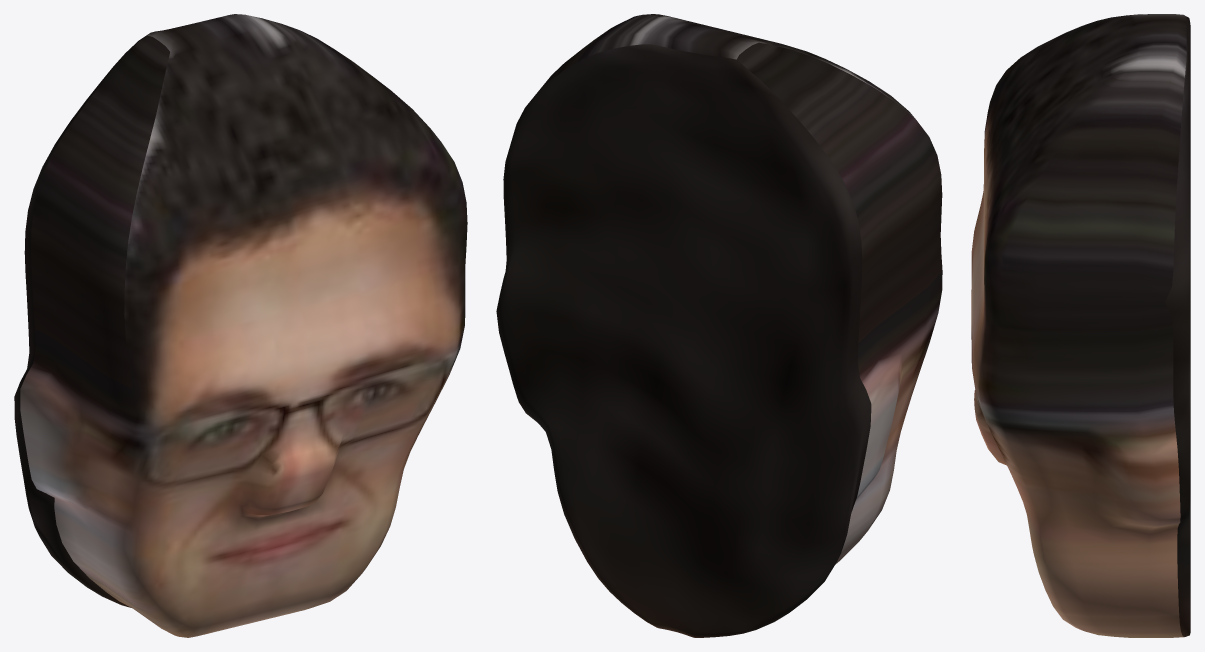
The model's file is aleix.fbx.
3 renders of one model, left to right at view 1: azimuth 30°, elevation 25°; view 2: azimuth 150°, elevation 25°; view 3: azimuth 270°, elevation 25°, orthographic.
Parts seen in each view (by area): view 1: Cube; view 2: Cube; view 3: Cube.
Part boxes in pixels (x1,y1,x2,y2): Cube: (14, 14, 467, 637); Cube: (496, 14, 942, 637); Cube: (971, 14, 1190, 637).
Size of the model in its own units: 108 by 164 by 55.45.
